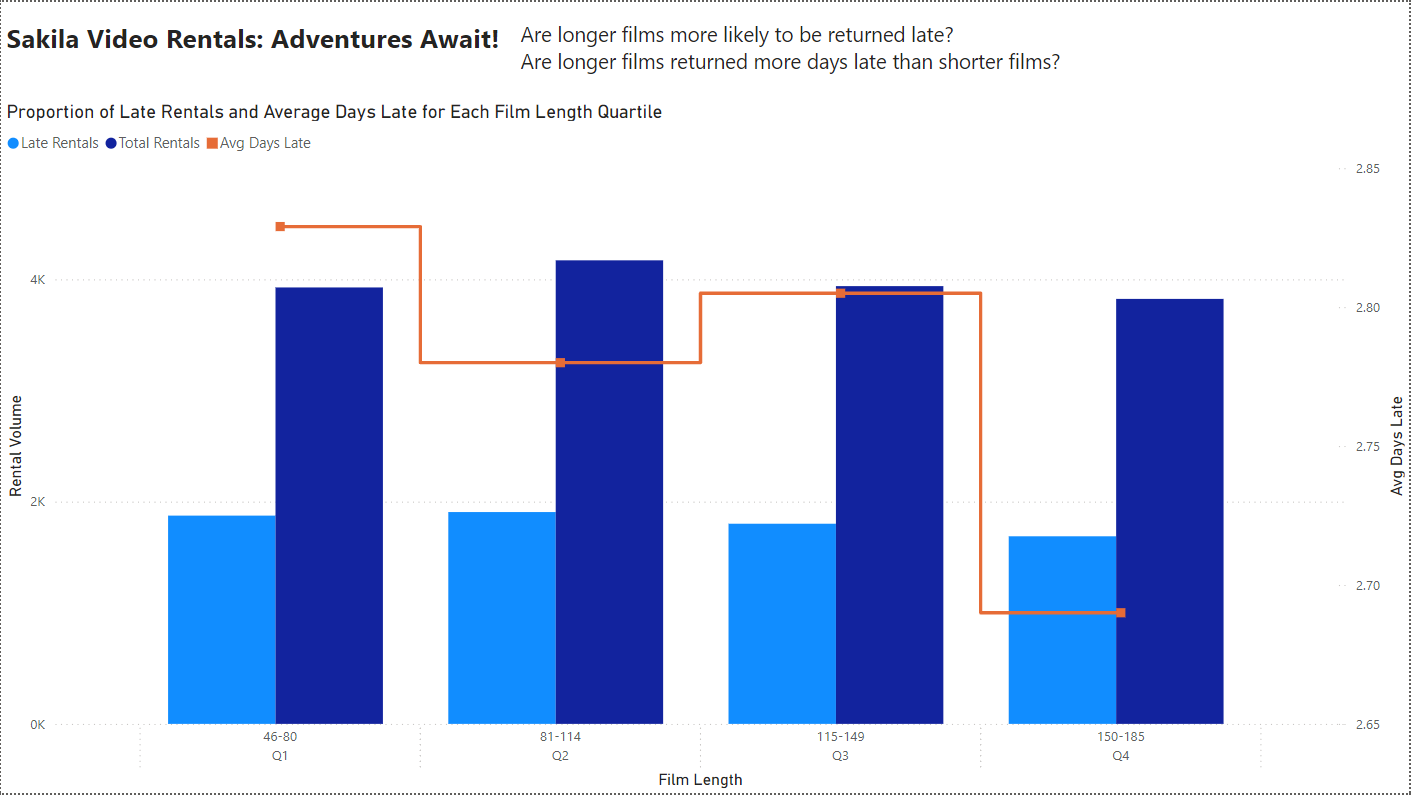

Layout of this report page (visuals, bound fields, positions):
{"tool":"powerbi","page":{"name":"Length Quartile Dashboard","canvas":[1280,720],"ordinal":2},"visuals":[{"type":"lineClusteredColumnComboChart","title":"Proportion of Late Rentals and Average Days Late for Each Film Length Quartile","fields":{"Y":["Sum(length_rentals.late_rentals)","Sum(length_rentals.total_rentals)"],"Y2":["Sum(length_avg_late.avg_days_late)"],"Category":["quartile_ranges.Quartile","quartile_ranges.Range"]},"box":[0,89.1,1280.8,631.5],"z":0},{"type":"textbox","box":[467.7,11.2,524.9,78.4],"z":1000},{"type":"textbox","box":[0,11.2,466.5,52.2],"z":2000}]}

Visuals, with their boxes in screenshot pixels (x1, y1, x2, y2), scaled from the page's 1280x720 canvas onto the 1411x796 screenshot:
"Proportion of Late Rentals and Average Days Late for Each Film Length Quartile" lineClusteredColumnComboChart: left=0, top=99, right=1410, bottom=795
textbox: left=516, top=12, right=1094, bottom=99
textbox: left=0, top=12, right=514, bottom=70
